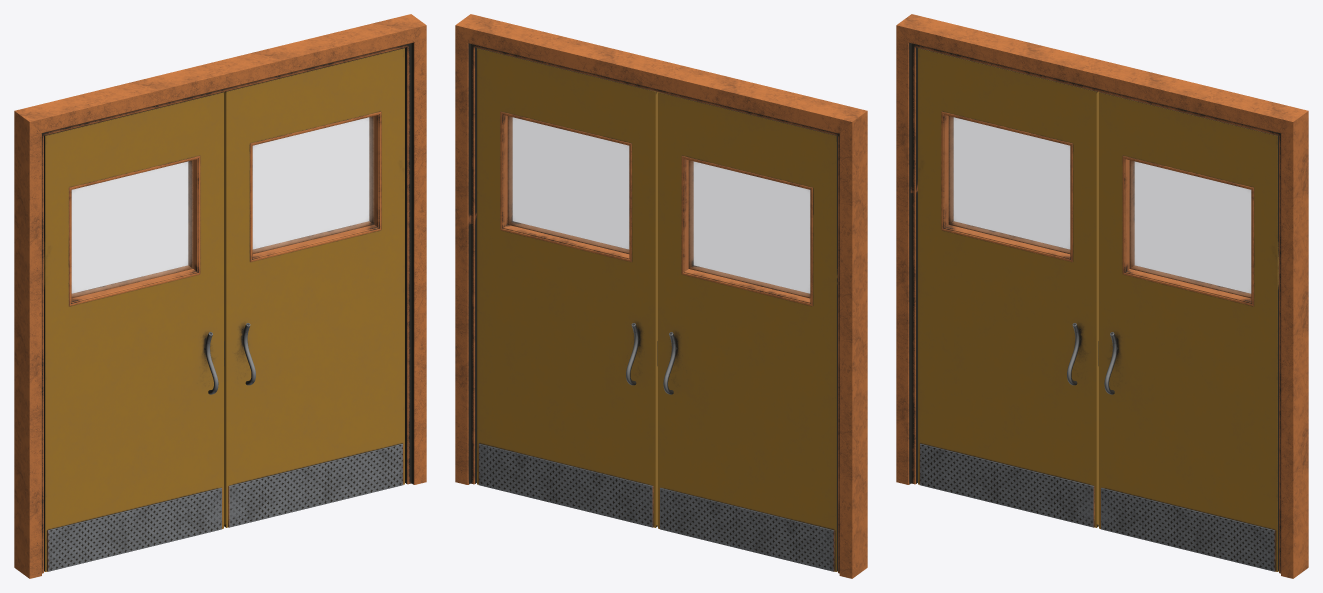
The model's file is door_classroom_9_mb.glb.
3 renders of one model, left to right at view 1: azimuth 30°, elevation 25°; view 2: azimuth 150°, elevation 25°; view 3: azimuth 330°, elevation 25°, orthographic.
Parts seen in each view (by area): view 1: L, R, F1, F2, F3; view 2: L, R, F1, F2, F3; view 3: R, L, F3, F2, F1.
Boxes of the visible parts, left/top/right/bottom form: L: left=223, top=48, right=404, bottom=527; R: left=44, top=92, right=223, bottom=571; F1: left=14, top=111, right=43, bottom=578; F2: left=14, top=14, right=426, bottom=135; F3: left=405, top=25, right=426, bottom=484; L: left=477, top=48, right=658, bottom=527; R: left=658, top=92, right=837, bottom=571; F1: left=838, top=111, right=867, bottom=578; F2: left=455, top=14, right=867, bottom=135; F3: left=455, top=25, right=476, bottom=484; R: left=918, top=48, right=1099, bottom=527; L: left=1099, top=92, right=1278, bottom=571; F3: left=1279, top=111, right=1308, bottom=578; F2: left=896, top=14, right=1308, bottom=135; F1: left=896, top=25, right=917, bottom=484.
Bounding box in the file's own units: 2 × 2.2 × 0.2734.
Materials: 3 (3 with a texture image).
